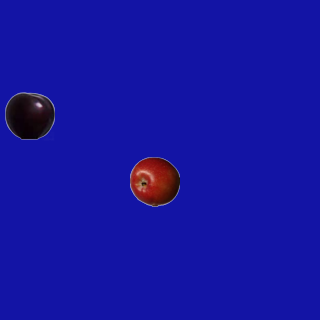Apple Braeburn: (129, 156, 179, 206)
Cherry Wax Black: (4, 90, 54, 140)
